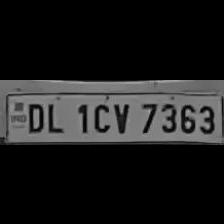1: (70, 99, 90, 133)
3: (158, 98, 176, 132), (197, 100, 215, 134)
6: (178, 100, 196, 132)
7: (134, 99, 156, 133)
C: (89, 100, 111, 134)
D: (23, 99, 45, 133)
L: (43, 97, 66, 132)
V: (110, 100, 132, 134)
